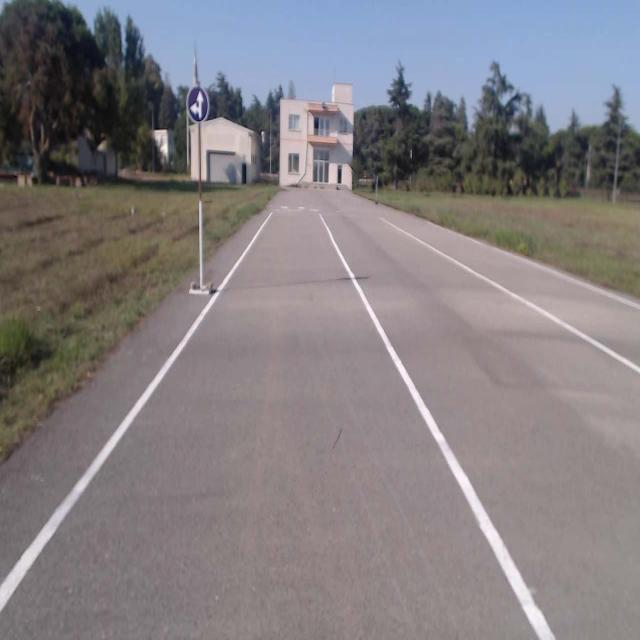ilerisol: (186, 84, 210, 124)
